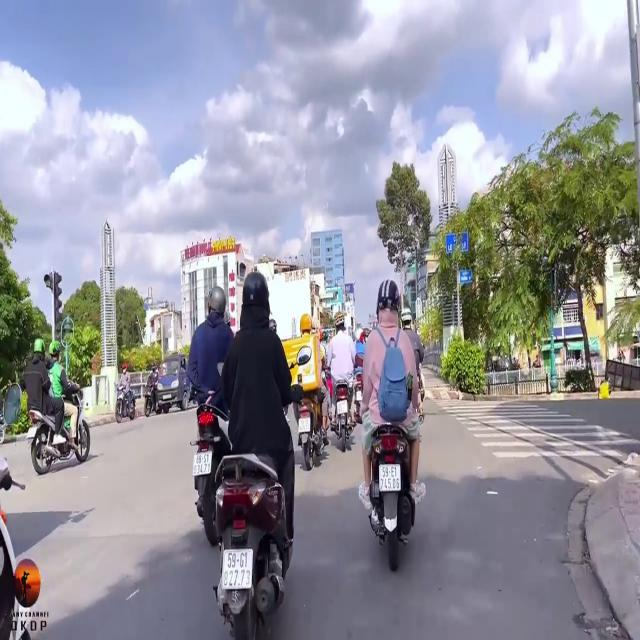bien_trang: (220, 543, 253, 591), (377, 462, 400, 496)
